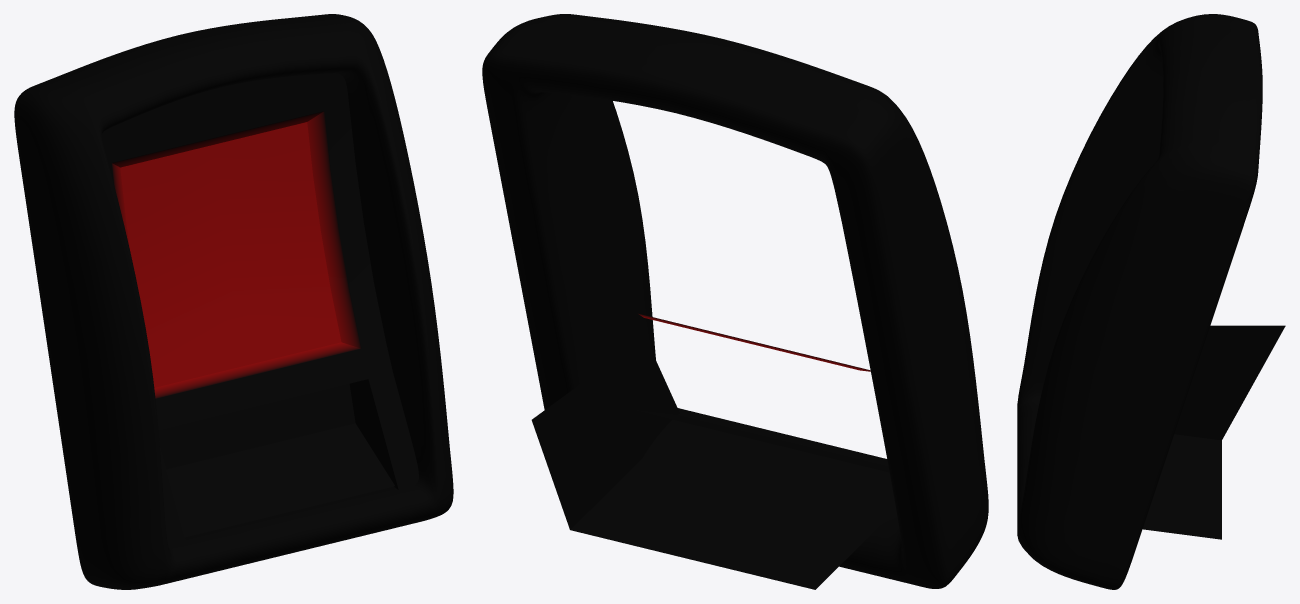
File: TankFace2.fbx
The picture shows the model from 3 angles, left to right: view 1: azimuth 30°, elevation 25°; view 2: azimuth 150°, elevation 25°; view 3: azimuth 270°, elevation 25°; orthographic projection. The views are drawn at different scales.
Visible parts, largest first — view 1: trim; view 2: trim; view 3: trim.
Part boxes in pixels (bbox=[...]): trim: bbox=[14, 14, 453, 589]; trim: bbox=[482, 14, 988, 589]; trim: bbox=[1017, 14, 1285, 589].
Size of the model in its own units: 119 by 157 by 84.99.
